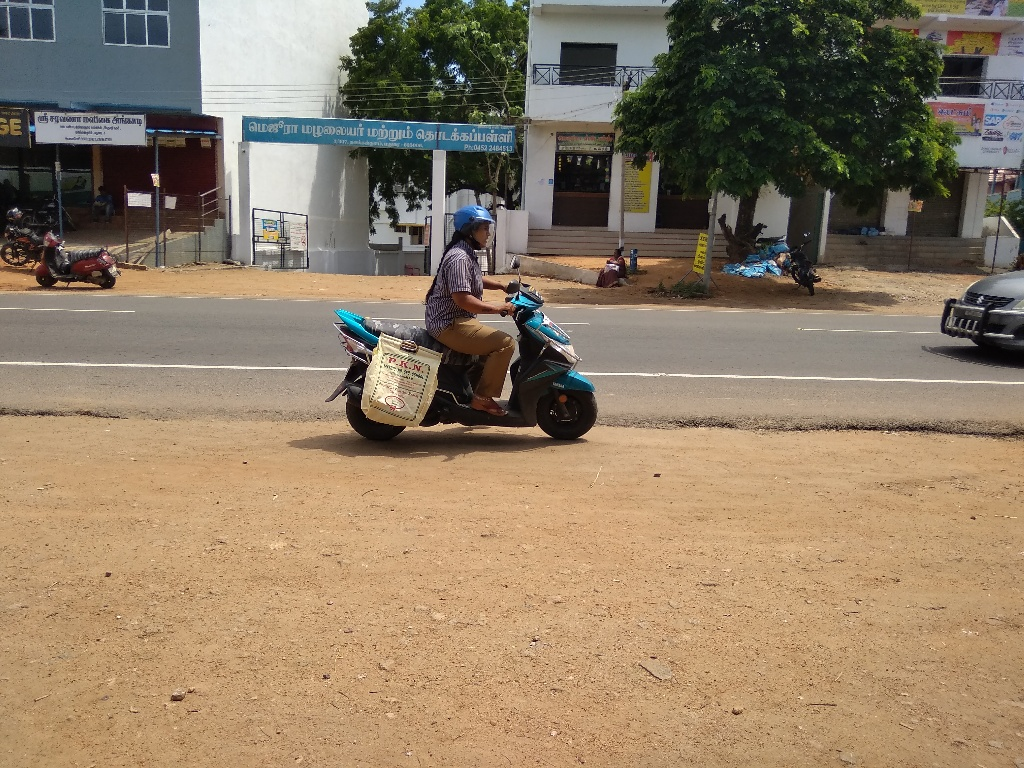biker: (288, 148, 633, 465)
helmet: (440, 189, 508, 269)
